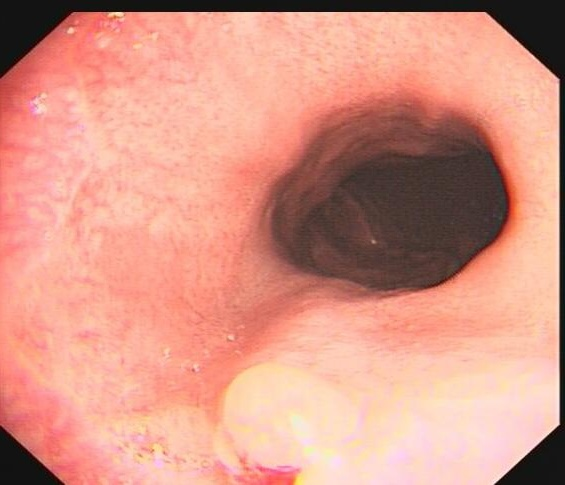Polyp: (211, 357, 371, 473)
